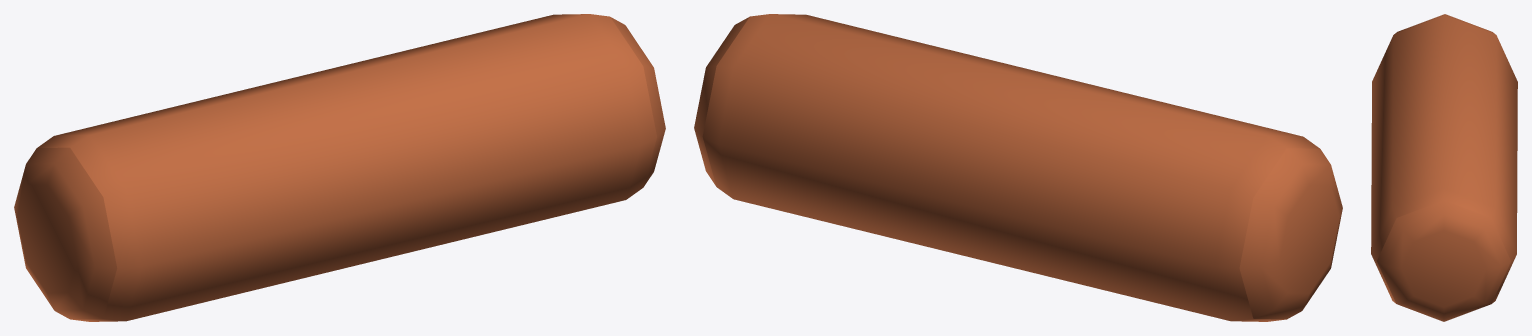
The model's file is Bullet.fbx.
3 views of the same model, side by side, from view 1: azimuth 30°, elevation 25°; view 2: azimuth 150°, elevation 25°; view 3: azimuth 270°, elevation 25° (orthographic). The views are drawn at different scales.
Parts seen in each view (by area): view 1: Bullet; view 2: Bullet; view 3: Bullet.
Boxes of the visible parts, x1,y1,x2,y2 form: Bullet: (14,14,665,321); Bullet: (694,14,1342,321); Bullet: (1371,14,1517,321).
Size of the model in its own units: 21.16 by 6.45 by 6.49.
